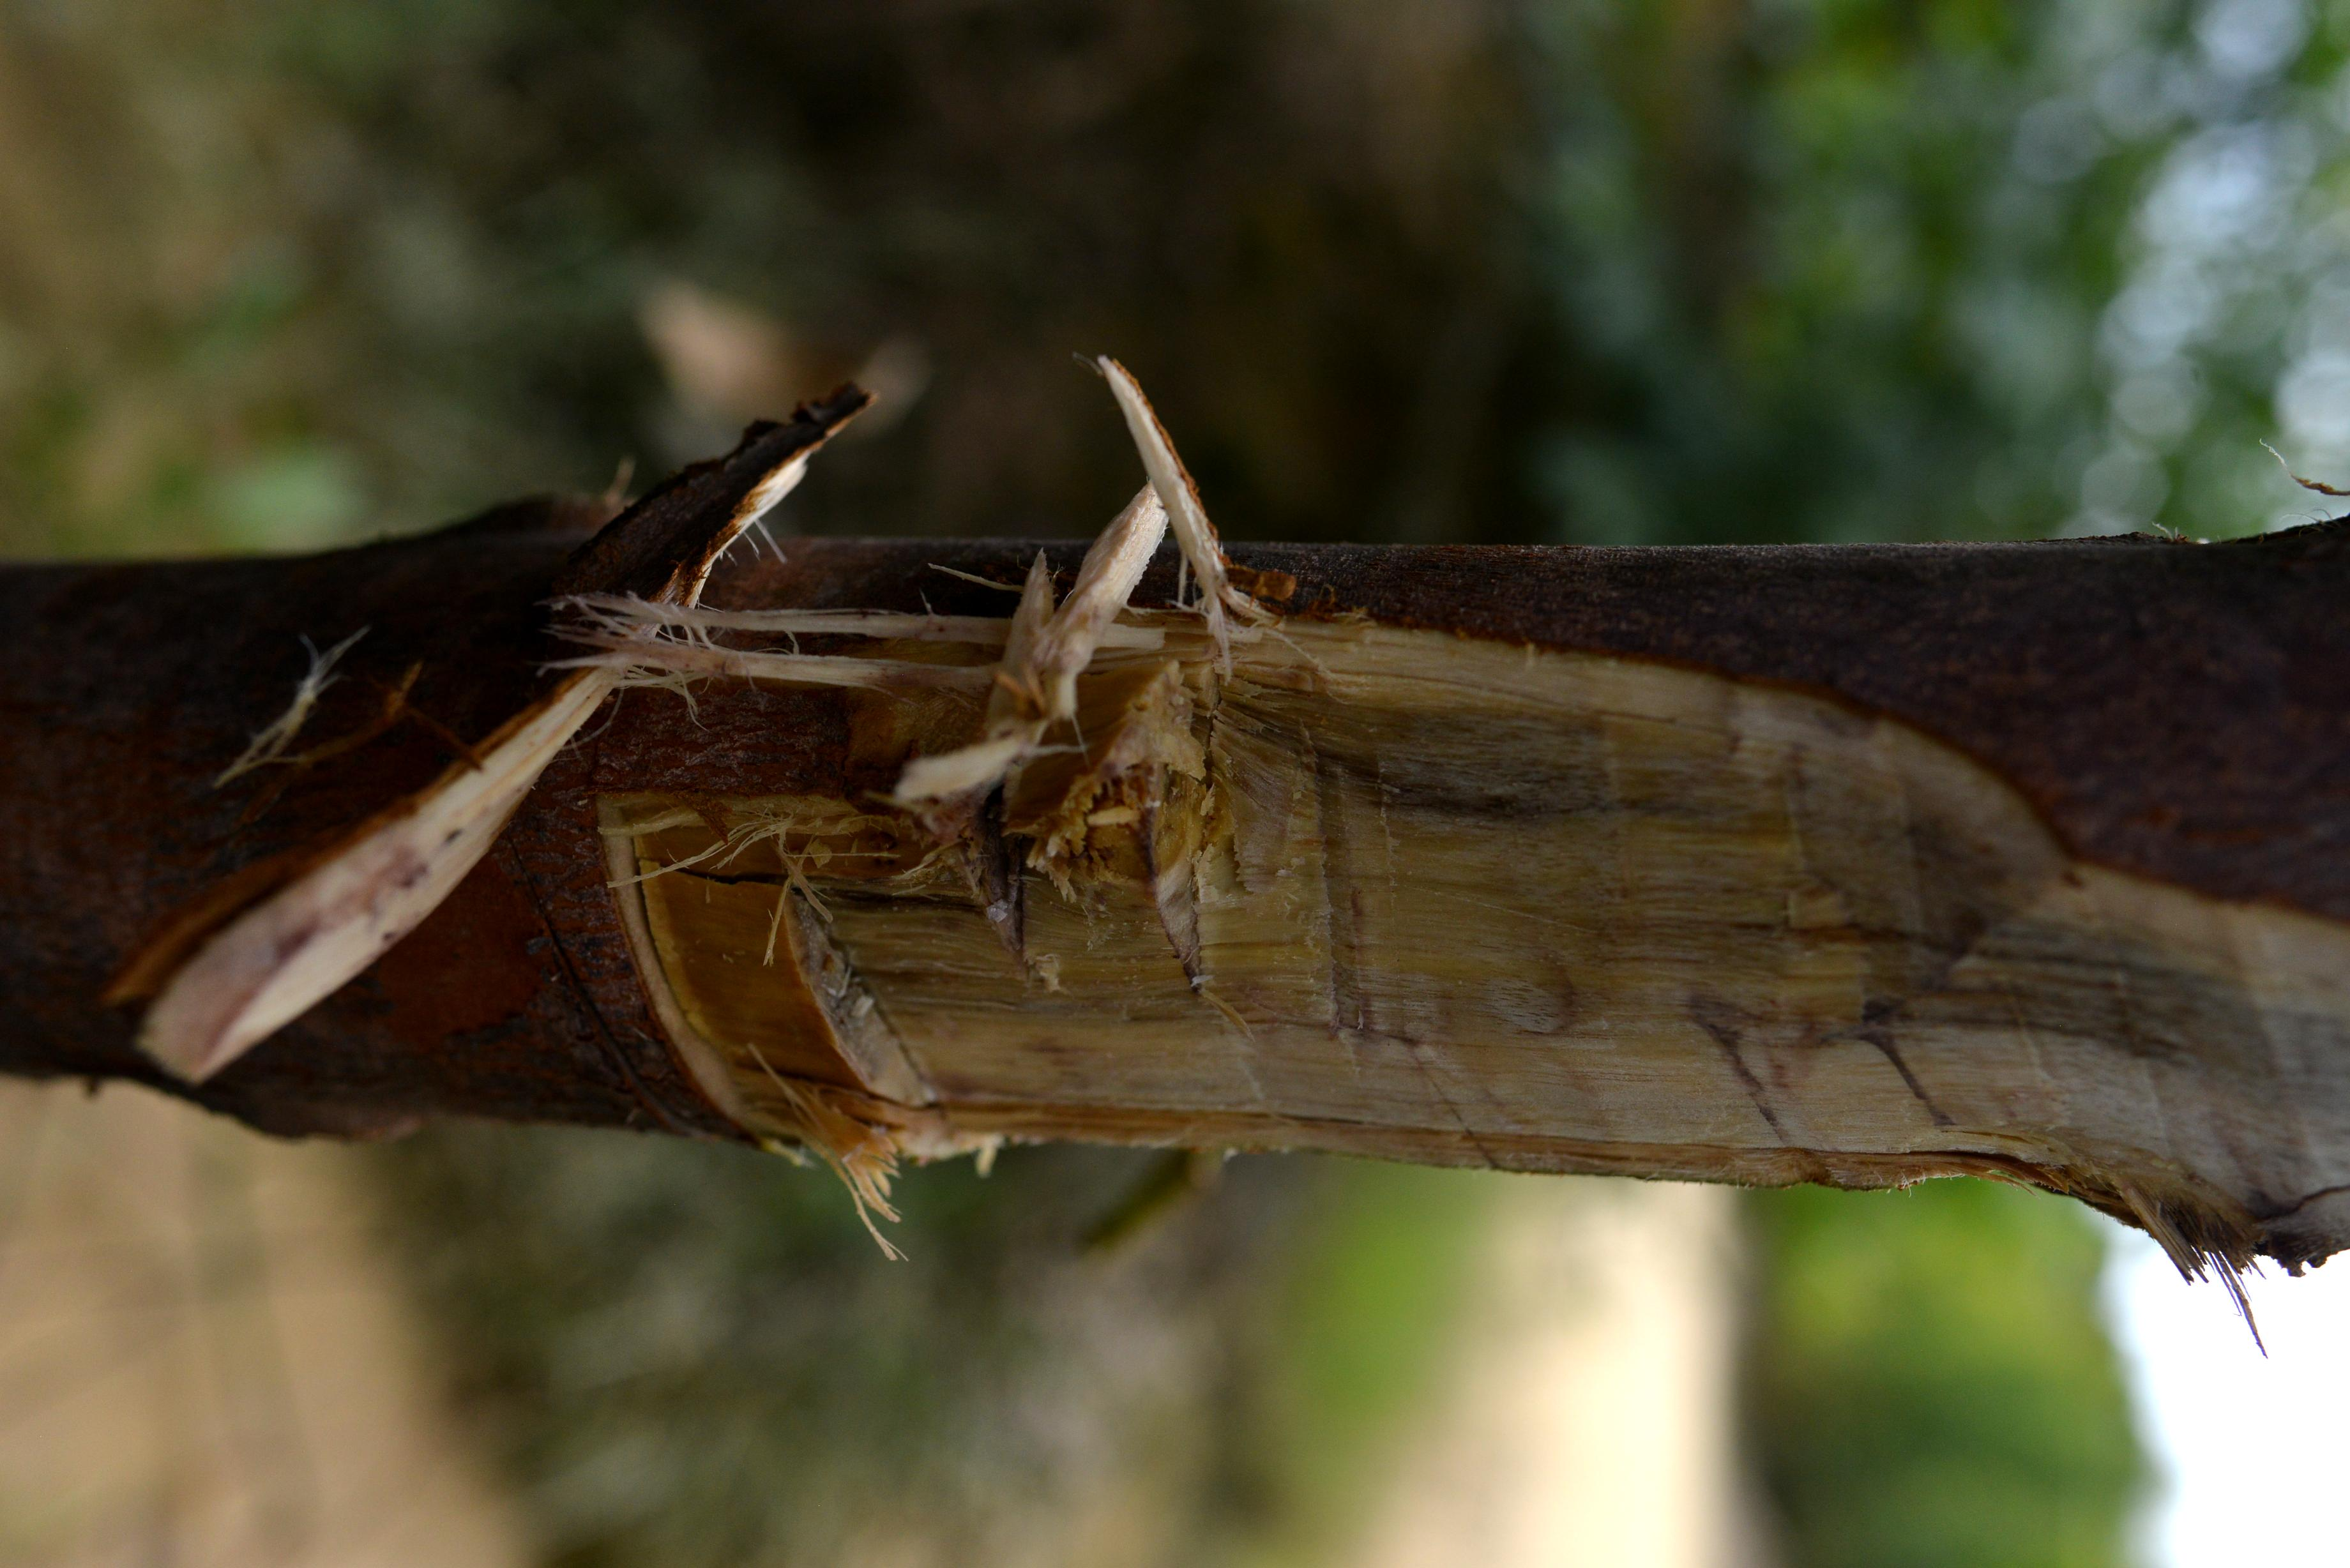Ralstonia: (618, 616, 2350, 1260)
